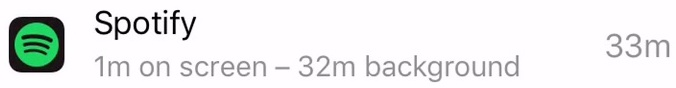name: (87, 3, 205, 43)
time: (295, 47, 361, 86), (92, 50, 137, 84)
